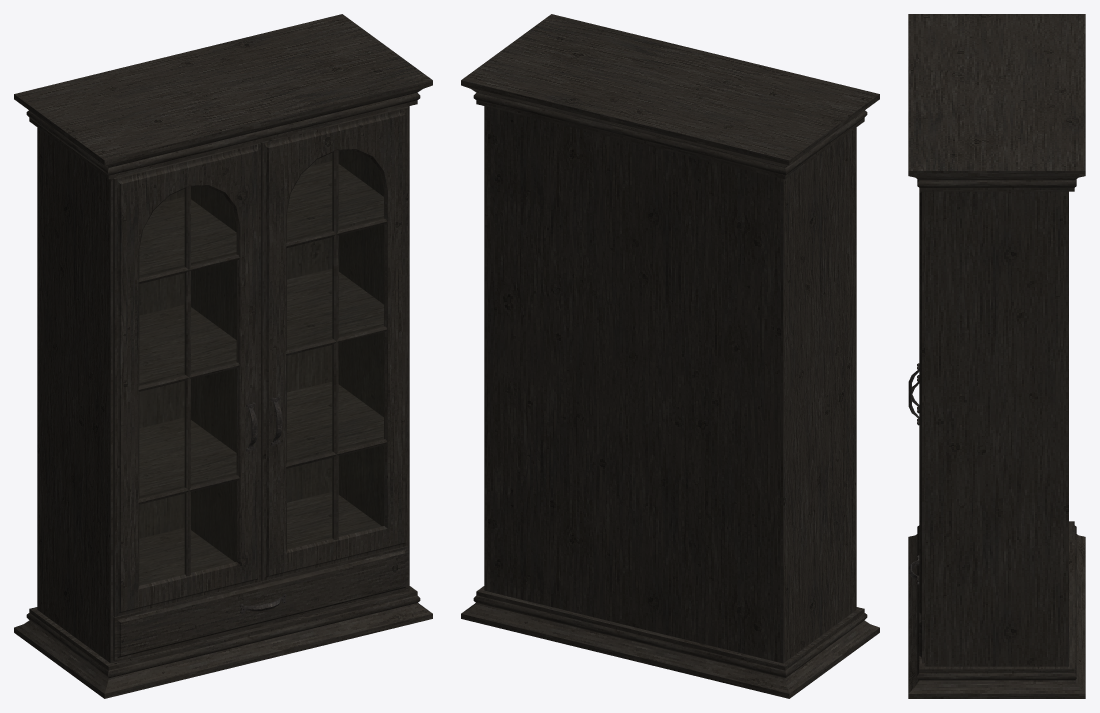
The model's file is display_cabinet_mp_2.glb.
The picture shows the model from 3 angles, left to right: view 1: azimuth 30°, elevation 25°; view 2: azimuth 150°, elevation 25°; view 3: azimuth 270°, elevation 25°; orthographic projection. The views are drawn at different scales.
Parts seen in each view (by area): view 1: display_cabinet_mp_2, display_cabinet_mp_2_drawer; view 2: display_cabinet_mp_2; view 3: display_cabinet_mp_2, display_cabinet_mp_2_drawer.
Boxes of the visible parts, left/top/right/bottom form: display_cabinet_mp_2: left=14, top=14, right=432, bottom=698; display_cabinet_mp_2_drawer: left=113, top=546, right=408, bottom=661; display_cabinet_mp_2: left=461, top=14, right=879, bottom=698; display_cabinet_mp_2: left=908, top=14, right=1085, bottom=698; display_cabinet_mp_2_drawer: left=908, top=555, right=924, bottom=662.
Size of the model in its own units: 1.34 by 2.1 by 0.64.
Materials: 3 (3 with a texture image).
